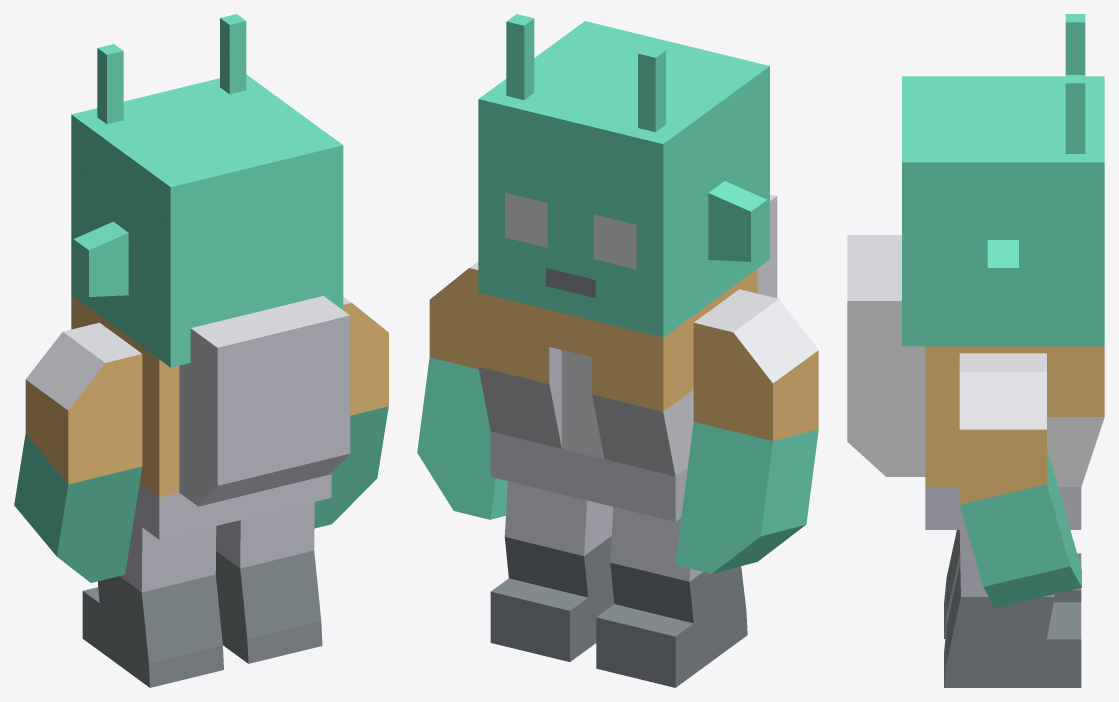
File: alien.glb
The picture shows the model from 3 angles, left to right: view 1: azimuth 30°, elevation 25°; view 2: azimuth 150°, elevation 25°; view 3: azimuth 270°, elevation 25°; orthographic projection. The views are drawn at different scales.
Parts seen in each view (by area): view 1: armLeft; view 2: armLeft; view 3: armLeft.
Part boxes in pixels (bbox=[...]): armLeft: bbox=[14, 14, 388, 687]; armLeft: bbox=[417, 14, 818, 687]; armLeft: bbox=[847, 14, 1104, 687].
Size of the model in its own units: 0.4832 by 0.8432 by 0.33.
Materials: 1 (1 with a texture image).
